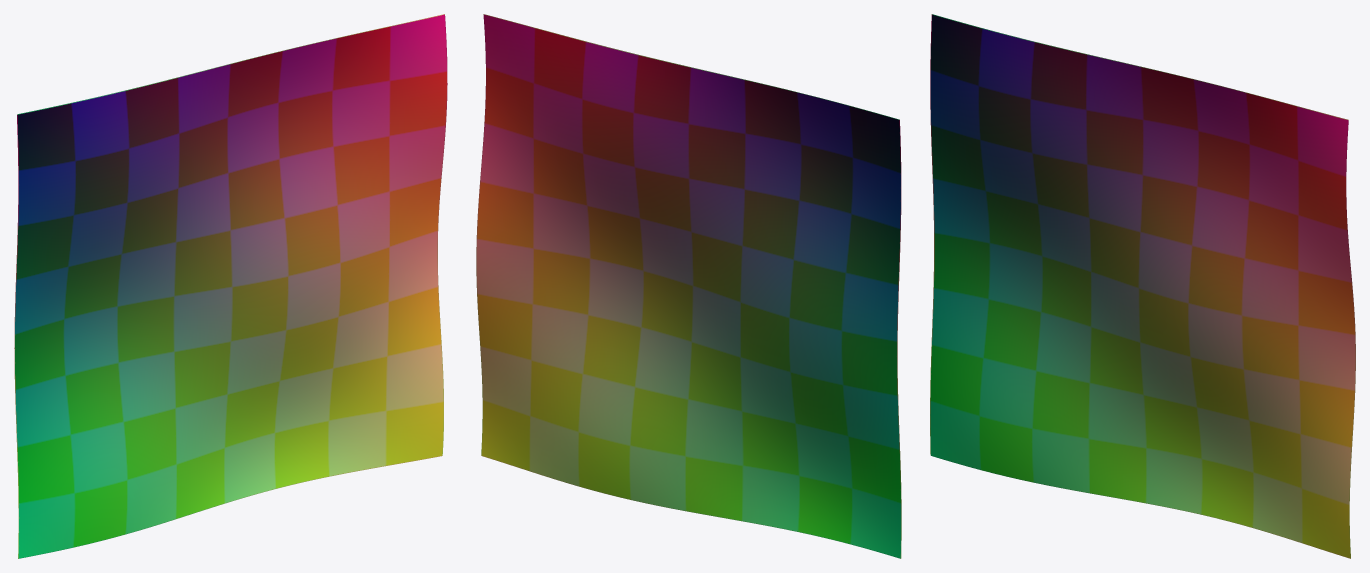
Rendered from Tile_+013_+026.obj.
3 renders of one model, left to right at view 1: azimuth 30°, elevation 25°; view 2: azimuth 150°, elevation 25°; view 3: azimuth 330°, elevation 25°, orthographic.
Size of the model in its own units: 100 by 100 by 5.77.
